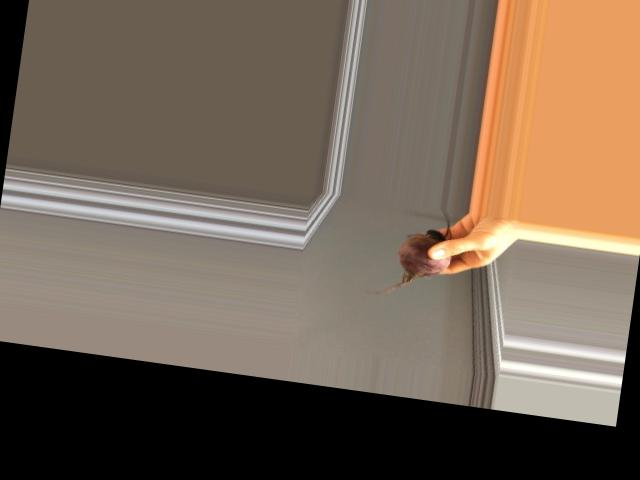beet: (365, 199, 457, 303)
